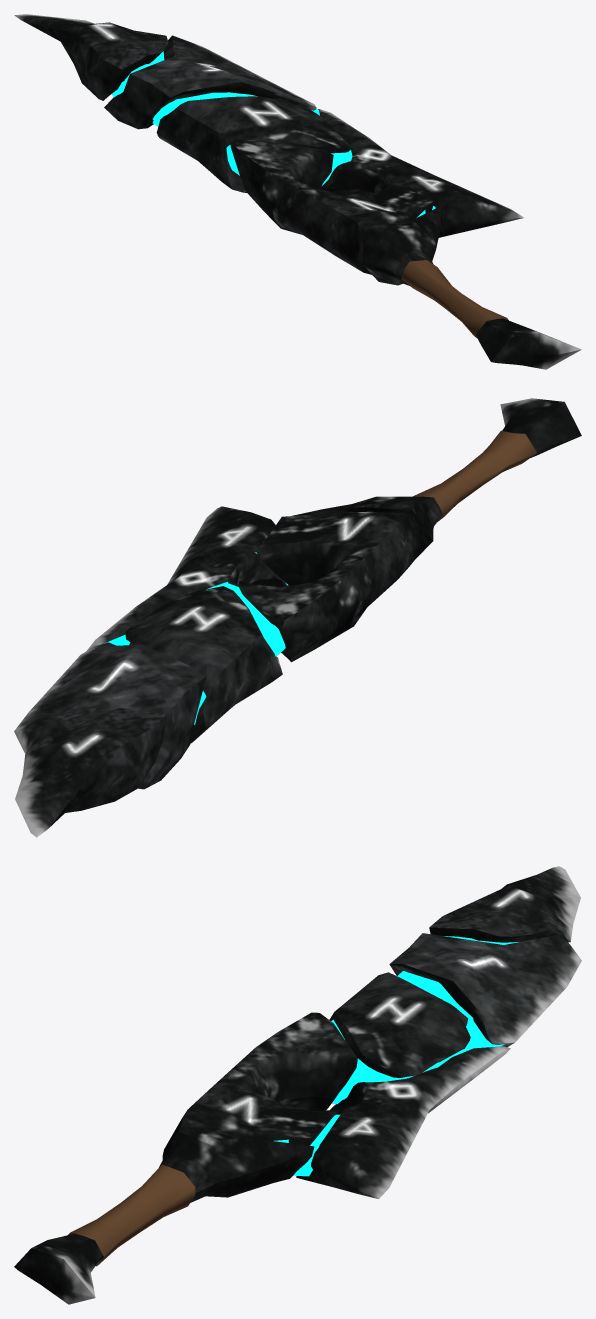
Rendered from ObsidianSwordMeshFBX.fbx.
The picture shows the model from 3 angles, top to bottom: view 1: azimuth 30°, elevation 25°; view 2: azimuth 150°, elevation 25°; view 3: azimuth 330°, elevation 25°; orthographic projection. The views are drawn at different scales.
Parts seen in each view (by area): view 1: ObsidianSwordRockMesh, ObsidianSwordWrapMesh, ObsidianSwordIceMesh; view 2: ObsidianSwordRockMesh, ObsidianSwordWrapMesh, ObsidianSwordIceMesh; view 3: ObsidianSwordRockMesh, ObsidianSwordWrapMesh, ObsidianSwordIceMesh.
Part boxes in pixels (x1,y1,x2,y2): ObsidianSwordRockMesh: [14, 14, 581, 369]; ObsidianSwordWrapMesh: [401, 260, 508, 338]; ObsidianSwordIceMesh: [111, 51, 435, 217]; ObsidianSwordRockMesh: [14, 398, 581, 837]; ObsidianSwordWrapMesh: [413, 430, 536, 521]; ObsidianSwordIceMesh: [104, 552, 288, 724]; ObsidianSwordRockMesh: [14, 866, 581, 1304]; ObsidianSwordWrapMesh: [68, 1164, 195, 1266]; ObsidianSwordIceMesh: [274, 936, 518, 1176].
Bounding box in the file's own units: 124 × 39.62 × 557.
